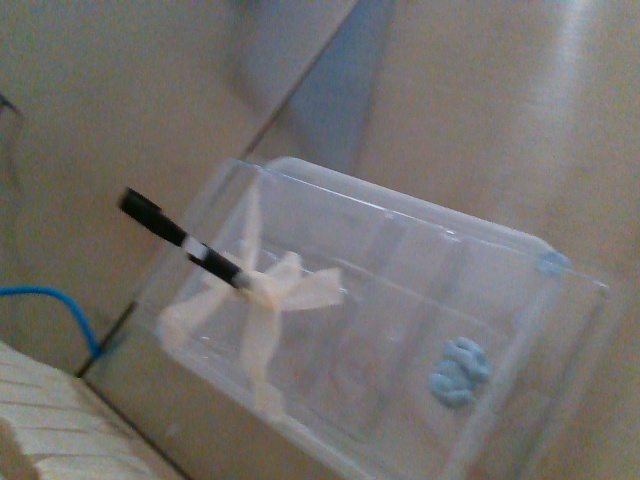test_strip: (113, 183, 208, 260)
